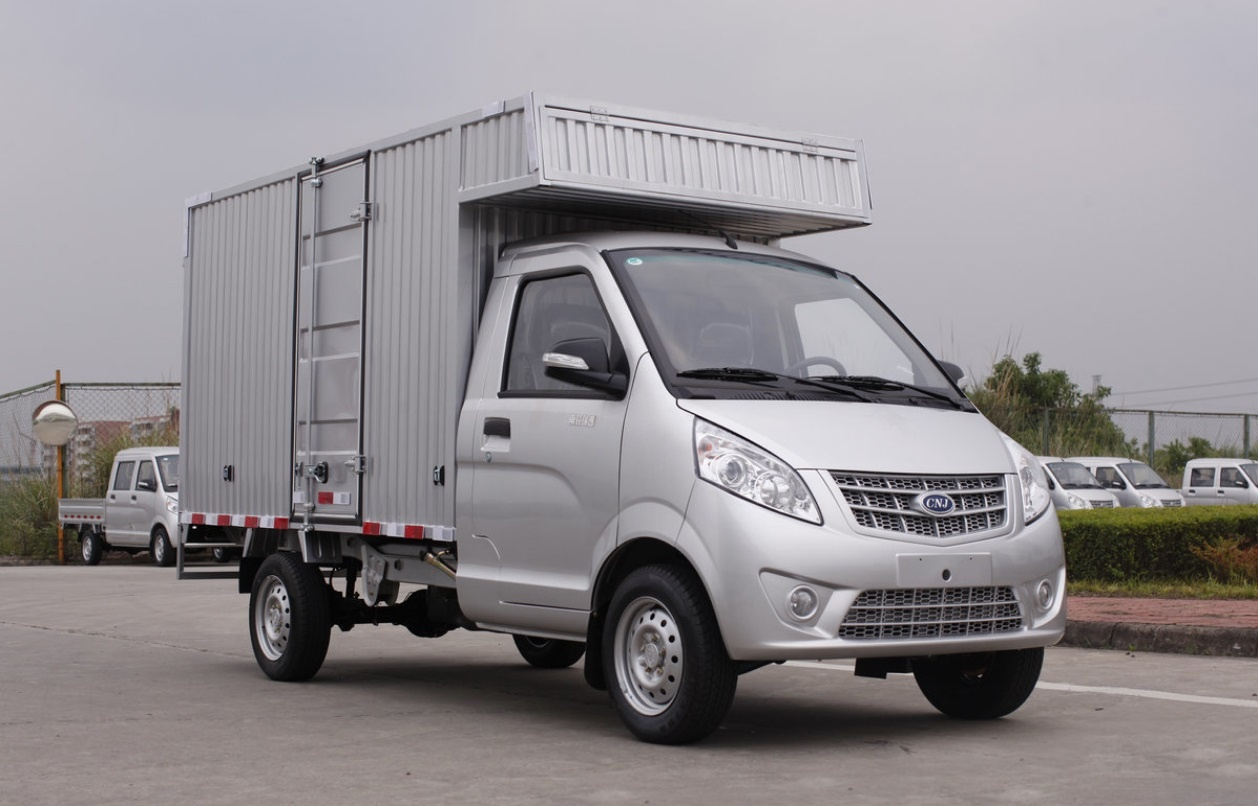truck: (181, 90, 1110, 757)
